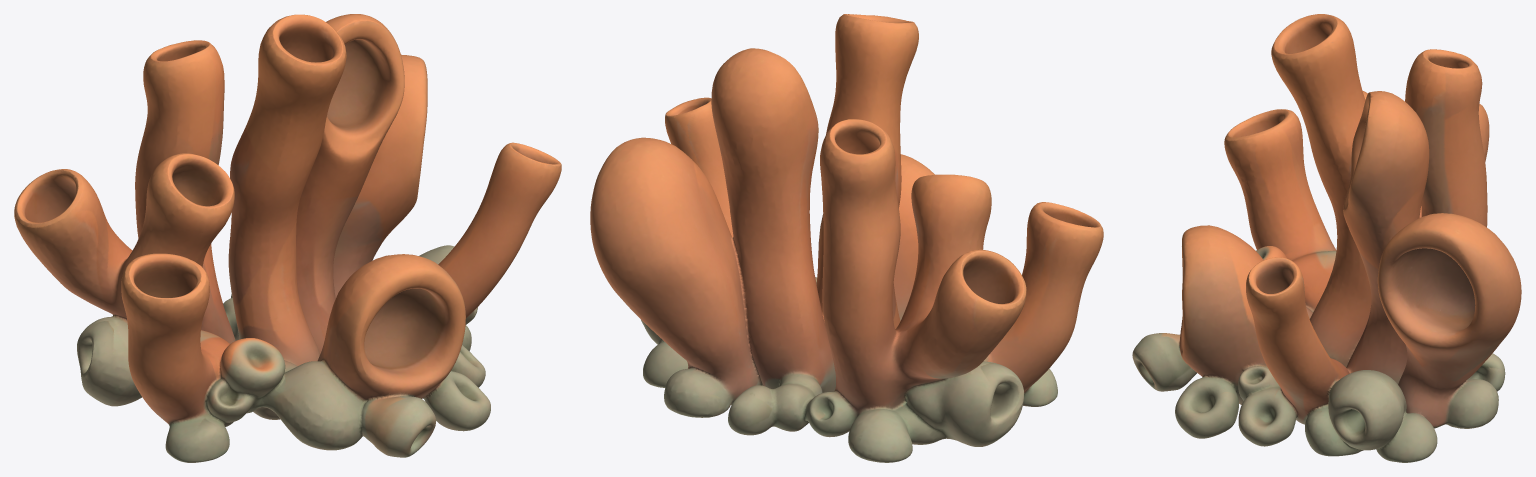
Rendered from recife_esponja_tubo.glb.
3 views of the same model, side by side, from view 1: azimuth 30°, elevation 25°; view 2: azimuth 150°, elevation 25°; view 3: azimuth 270°, elevation 25° (orthographic). The views are drawn at different scales.
Size of the model in its own units: 1.9 by 1.56 by 1.51.
1 material, 1 textured.
